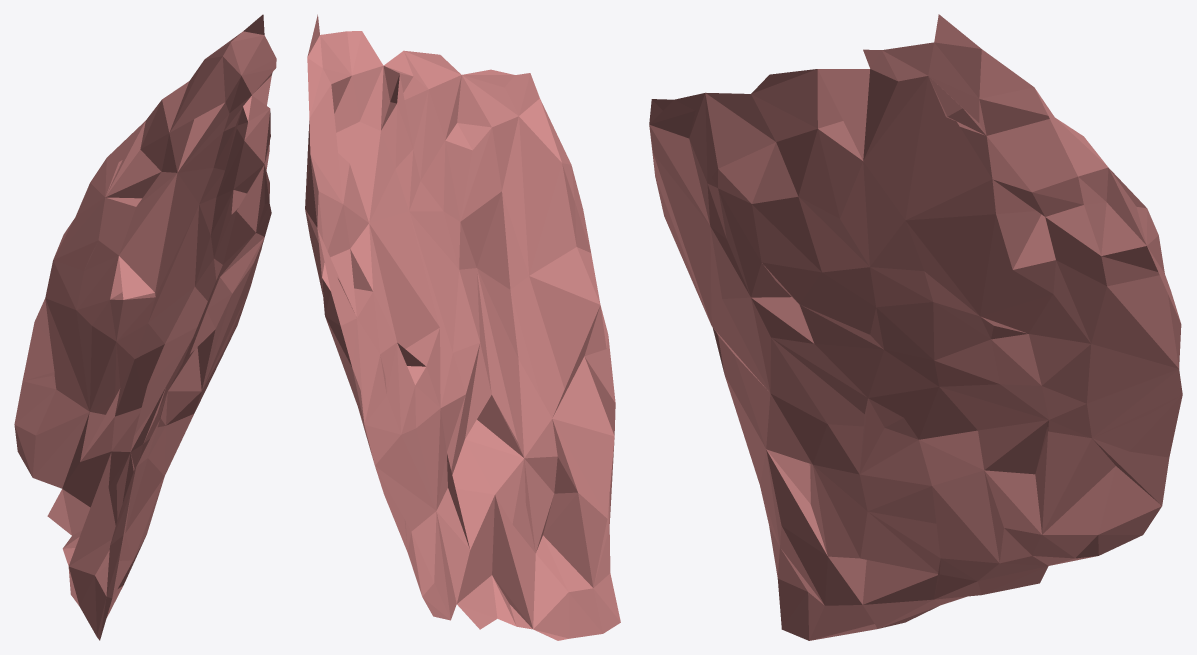
The model's file is Superficial_part_of_masseter.l.glb.
The picture shows the model from 3 angles, left to right: view 1: azimuth 30°, elevation 25°; view 2: azimuth 150°, elevation 25°; view 3: azimuth 270°, elevation 25°; orthographic projection. The views are drawn at different scales.
Visible parts, largest first — view 1: Superficial_part_of_masseter.l; view 2: Superficial_part_of_masseter.l; view 3: Superficial_part_of_masseter.l.
Boxes of the visible parts, x1,y1,x2,y2 form: Superficial_part_of_masseter.l: (14,14,276,640); Superficial_part_of_masseter.l: (305,14,620,640); Superficial_part_of_masseter.l: (649,14,1182,640).
Size of the model in its own units: 0.0258 by 0.0609 by 0.038.
